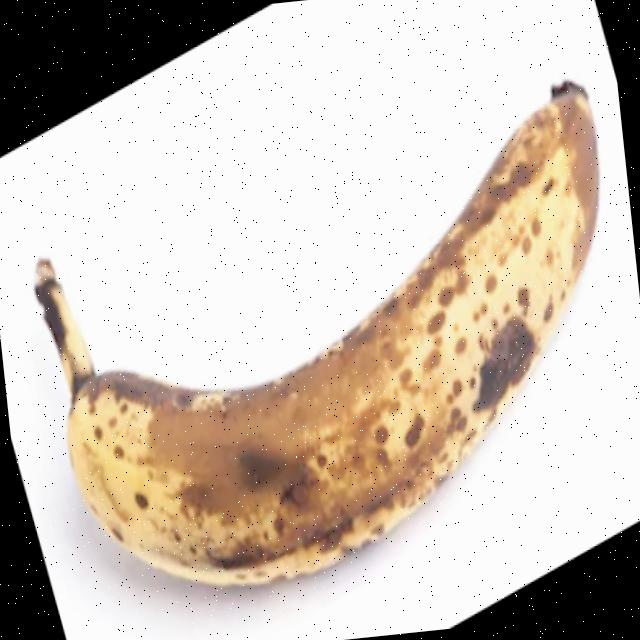rotten banana: (10, 79, 640, 618)
